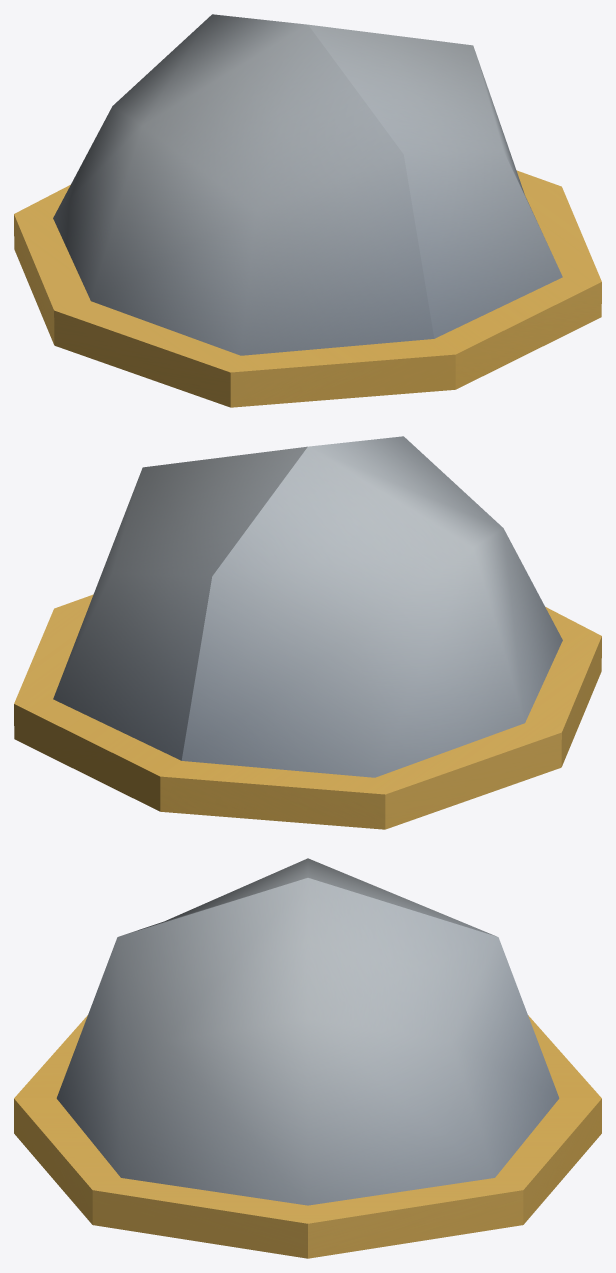
Rendered from ShoulderPlate.fbx.
The picture shows the model from 3 angles, top to bottom: view 1: azimuth 30°, elevation 25°; view 2: azimuth 150°, elevation 25°; view 3: azimuth 270°, elevation 25°; orthographic projection.
Parts seen in each view (by area): view 1: ShoulderPlate; view 2: ShoulderPlate; view 3: ShoulderPlate.
Boxes of the visible parts, left/top/right/bottom form: ShoulderPlate: left=14, top=14, right=601, bottom=407; ShoulderPlate: left=14, top=436, right=601, bottom=829; ShoulderPlate: left=14, top=858, right=601, bottom=1258.
Size of the model in its own units: 0.5439 by 0.2652 by 0.5481.
Materials: 1 (1 with a texture image).
